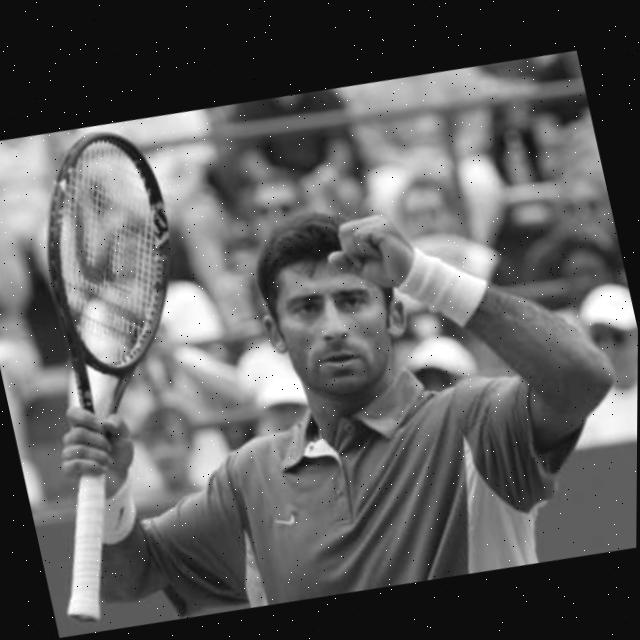face: (244, 231, 426, 413)
